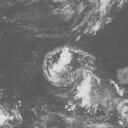cyclone: (41, 44, 96, 87)
